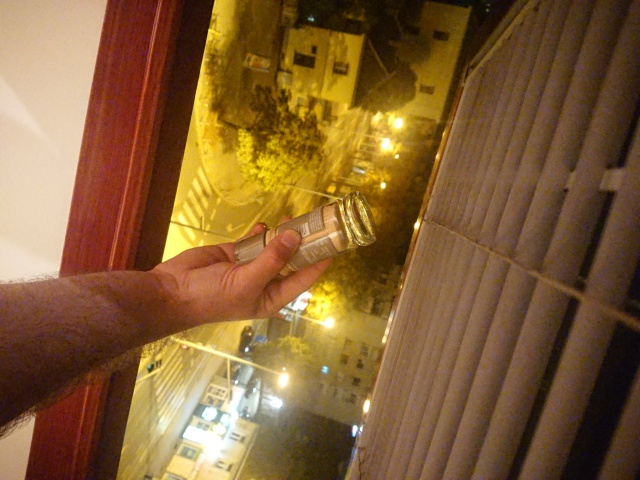Kotanyi Garlic Granules 70g: (230, 189, 380, 286)
